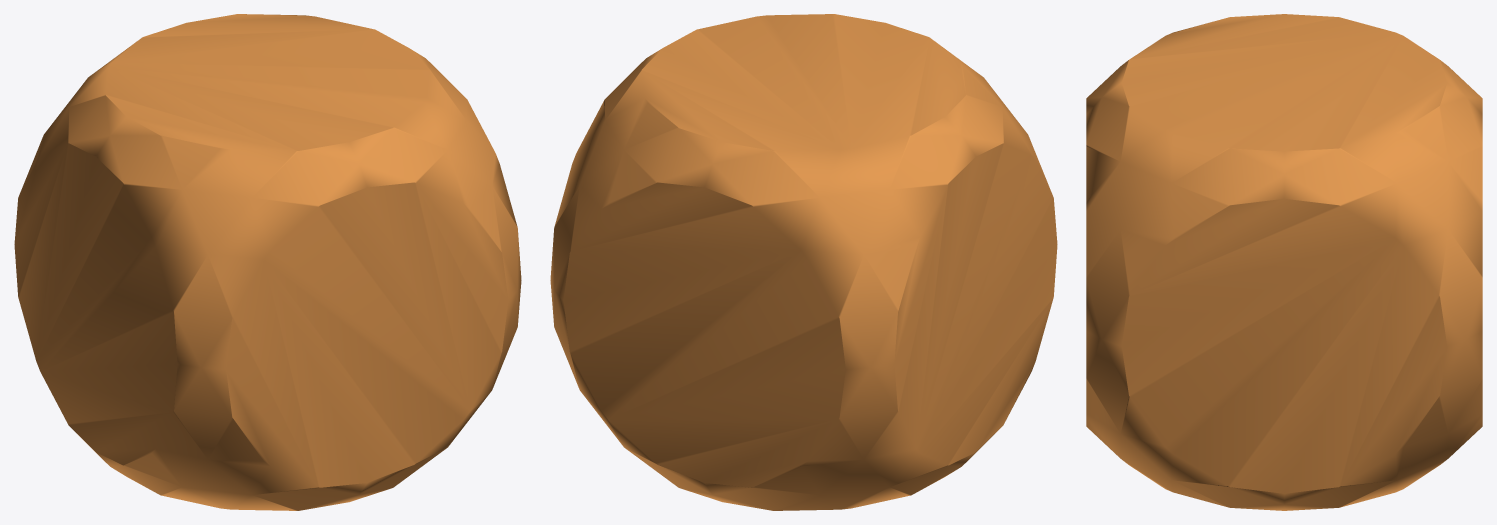
Rendered from expected.gltf.
3 renders of one model, left to right at view 1: azimuth 30°, elevation 25°; view 2: azimuth 150°, elevation 25°; view 3: azimuth 270°, elevation 25°, orthographic.
Size of the model in its own units: 20 by 20 by 20.
